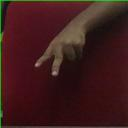hand: (33, 1, 127, 77)
